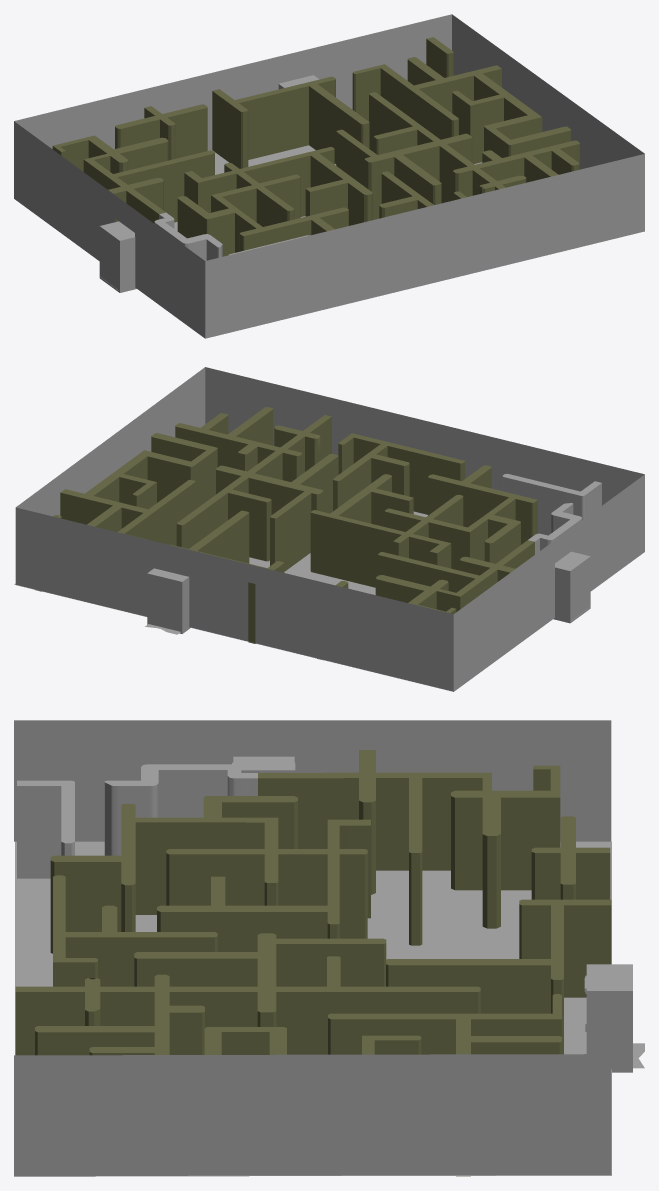
3 renders of one model, top to bottom at view 1: azimuth 30°, elevation 25°; view 2: azimuth 150°, elevation 25°; view 3: azimuth 270°, elevation 25°, orthographic. The views are drawn at different scales.
Parts seen in each view (by area): view 1: pPlane11, Muros_de_cubos, pCube13, pPlane1; view 2: pPlane11, Muros_de_cubos, pCube12, pCube13, pPlane1; view 3: Muros_de_cubos, pPlane11, pPlane1, pCube12, pCube13.
Part boxes in pixels (bbox=[...]): pPlane11: bbox=[14, 14, 644, 338]; Muros_de_cubos: bbox=[52, 37, 579, 260]; pCube13: bbox=[99, 221, 136, 292]; pPlane1: bbox=[101, 145, 482, 290]; pPlane11: bbox=[15, 367, 644, 691]; Muros_de_cubos: bbox=[35, 407, 601, 659]; pCube12: bbox=[147, 568, 190, 633]; pCube13: bbox=[553, 551, 590, 623]; pPlane1: bbox=[14, 511, 589, 691]; Muros_de_cubos: bbox=[15, 750, 611, 1176]; pPlane11: bbox=[14, 720, 611, 1176]; pPlane1: bbox=[15, 841, 644, 1175]; pCube12: bbox=[584, 964, 632, 1072]; pCube13: bbox=[232, 756, 295, 772].
Size of the model in its own units: 64.29 by 13.18 by 49.39.
